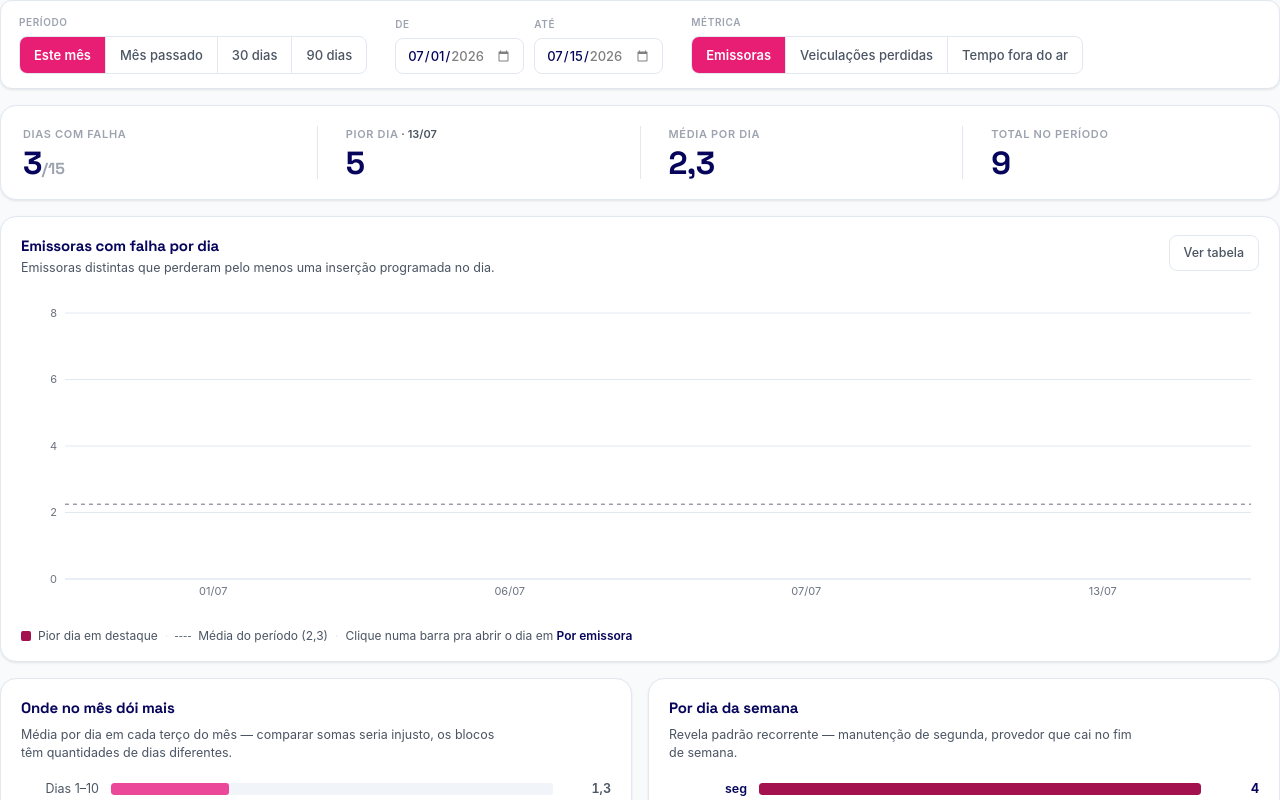
Scenario: FailuresDailyView — KPIs e métricas › métrica Veiculações perdidas troca título e números
Expected: the text "dias com falha" is shown, x1=23 y1=127 x2=126 y2=141
Click the button "Veiculações perdidas" at (867, 55), box x1=786 y1=37 x2=948 y2=73
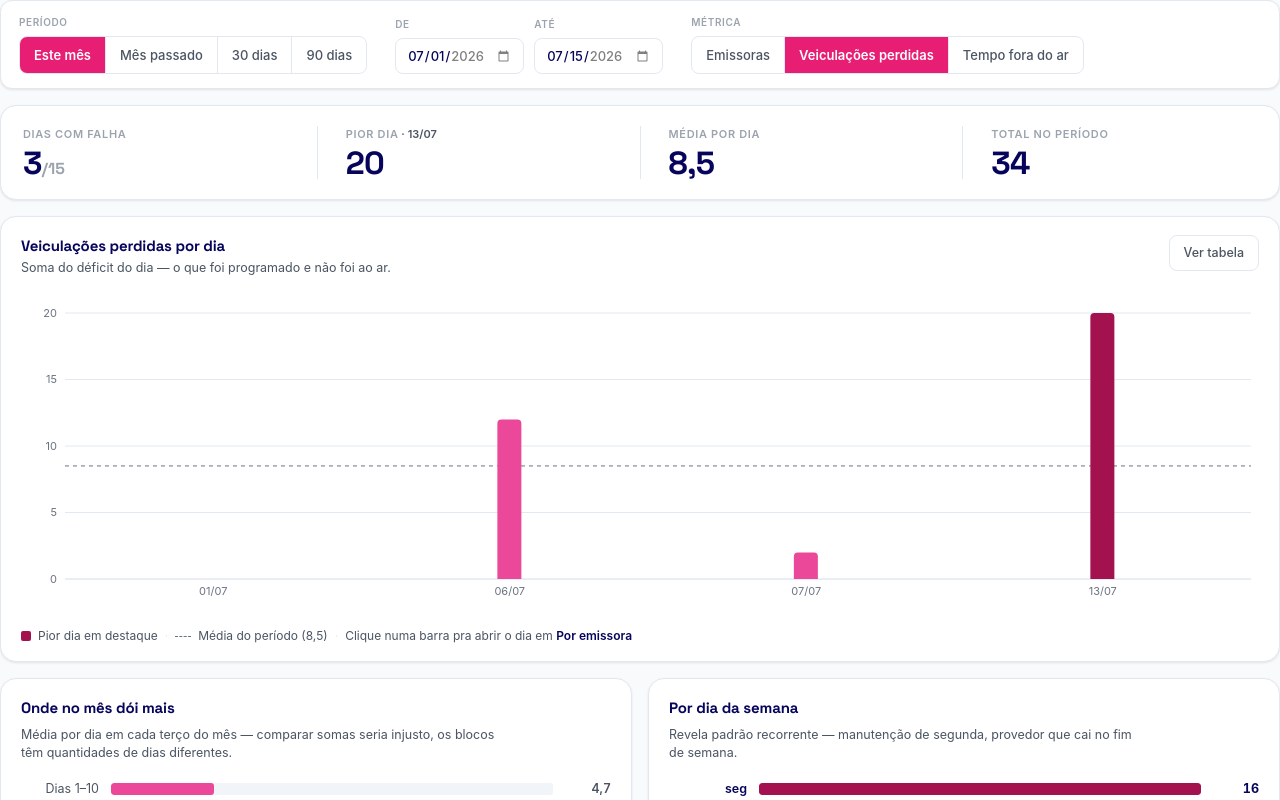
Result: the heading "Veiculações perdidas por dia" is shown at x1=21 y1=236 x2=225 y2=254
